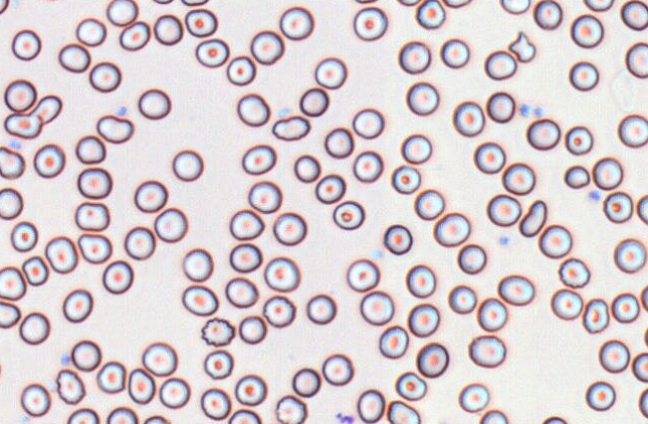PLT: (517, 101, 533, 118), (6, 137, 24, 152), (58, 351, 73, 368), (586, 187, 601, 202), (498, 232, 512, 248), (115, 105, 129, 119), (533, 104, 546, 118)
RBC: (263, 256, 299, 292), (433, 212, 470, 247), (141, 341, 177, 376), (468, 334, 505, 368), (44, 235, 77, 273), (359, 290, 394, 325), (153, 207, 187, 242), (250, 30, 284, 65), (353, 6, 387, 41), (452, 100, 485, 136), (181, 284, 218, 316), (405, 81, 439, 115), (538, 224, 572, 258), (272, 211, 306, 245), (279, 6, 313, 40), (416, 342, 449, 377), (613, 238, 646, 273), (486, 193, 521, 226), (570, 13, 603, 48), (497, 274, 534, 305), (346, 258, 379, 292), (248, 180, 282, 213), (501, 162, 535, 195), (133, 179, 167, 212), (236, 93, 270, 126), (398, 40, 431, 74), (77, 232, 112, 264), (229, 208, 264, 240), (33, 143, 65, 178), (77, 167, 112, 199), (550, 287, 583, 320), (314, 56, 347, 89), (4, 78, 36, 112), (407, 303, 439, 337), (598, 339, 630, 373), (123, 226, 155, 260), (526, 118, 560, 150), (62, 288, 93, 323), (102, 259, 133, 294), (241, 144, 276, 175), (55, 368, 85, 404), (96, 114, 133, 143), (234, 374, 267, 406), (321, 353, 353, 386), (262, 295, 295, 327), (225, 276, 258, 308), (473, 141, 505, 174), (20, 383, 51, 417), (405, 264, 436, 298), (182, 247, 213, 281), (592, 156, 623, 190), (137, 88, 171, 119), (271, 114, 310, 141), (617, 113, 647, 148), (74, 201, 109, 231), (127, 367, 155, 404), (352, 107, 384, 139), (200, 387, 231, 420), (19, 311, 50, 344), (88, 61, 121, 92), (484, 49, 517, 80), (557, 257, 590, 288), (200, 316, 234, 346), (477, 297, 507, 331), (356, 388, 385, 423), (158, 377, 190, 408), (70, 339, 101, 371), (352, 150, 383, 182), (400, 133, 432, 164), (172, 149, 203, 181), (602, 191, 633, 223), (96, 360, 126, 393), (378, 325, 408, 358), (229, 242, 262, 272), (3, 112, 41, 138), (195, 38, 229, 67), (582, 297, 609, 333), (119, 20, 150, 51), (585, 380, 616, 411), (413, 189, 444, 220), (568, 60, 599, 91), (11, 28, 41, 60), (58, 42, 90, 72), (332, 200, 364, 230), (394, 371, 427, 400), (274, 394, 307, 423), (184, 8, 217, 37), (458, 382, 489, 412), (314, 173, 345, 203), (306, 293, 336, 324), (75, 134, 106, 164), (153, 14, 183, 45), (486, 91, 515, 123), (0, 265, 26, 300), (203, 349, 233, 379), (291, 367, 321, 397), (226, 55, 256, 85), (391, 164, 421, 194), (439, 38, 469, 68), (457, 243, 486, 274), (75, 17, 106, 46), (324, 127, 353, 158), (383, 223, 412, 254), (10, 220, 38, 252), (238, 314, 267, 344), (448, 284, 477, 314), (415, 0, 445, 29), (533, 0, 562, 30), (299, 87, 329, 116), (564, 125, 593, 155), (611, 292, 639, 323), (0, 145, 25, 179), (21, 255, 48, 286), (106, 0, 138, 26), (386, 399, 420, 423), (625, 41, 647, 78), (620, 0, 647, 30), (293, 154, 320, 182), (0, 187, 23, 219), (563, 164, 590, 189), (0, 300, 20, 328), (106, 406, 138, 423), (66, 407, 99, 423), (227, 408, 261, 423), (631, 352, 647, 382), (499, 0, 530, 14), (479, 409, 507, 423), (583, 0, 614, 11), (636, 194, 647, 224), (638, 387, 647, 418), (143, 414, 169, 423), (443, 0, 471, 8), (541, 415, 566, 423), (640, 284, 647, 312), (180, 0, 209, 6), (396, 0, 420, 6), (0, 0, 9, 14), (643, 326, 648, 347), (354, 0, 378, 4), (151, 0, 173, 4), (324, 0, 349, 3), (36, 0, 66, 2)
Schistocyte: (519, 198, 548, 239), (507, 30, 540, 65), (31, 95, 63, 124)
